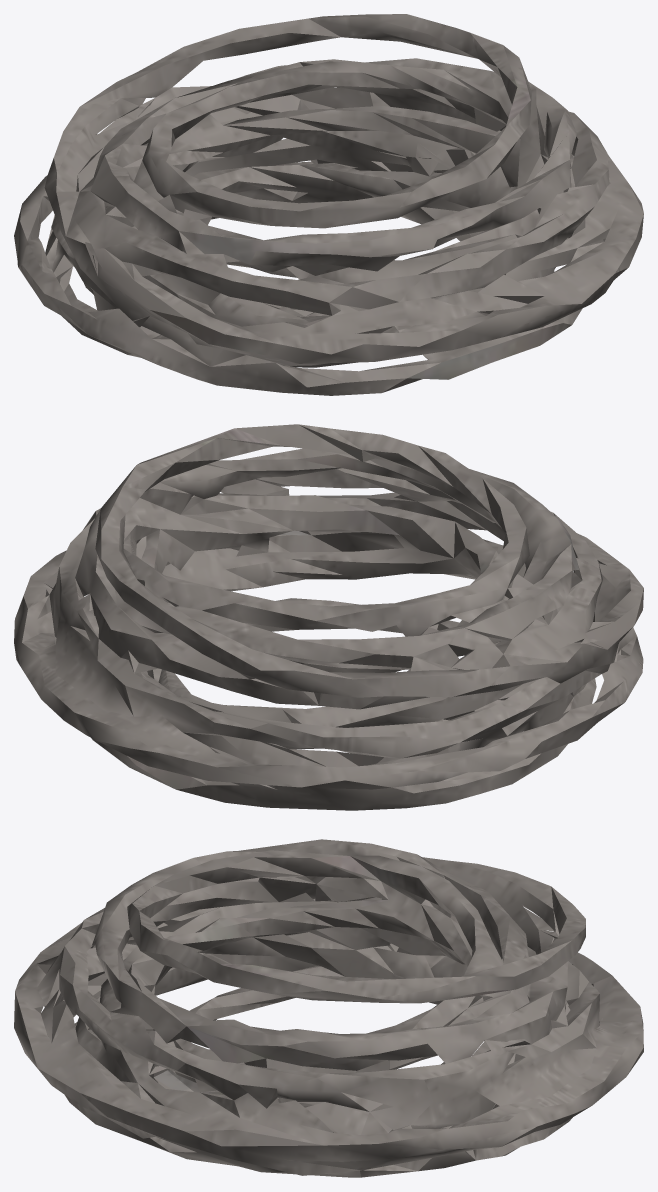
Rendered from rope.glb.
The picture shows the model from 3 angles, top to bottom: view 1: azimuth 30°, elevation 25°; view 2: azimuth 150°, elevation 25°; view 3: azimuth 270°, elevation 25°; orthographic projection.
Visible parts, largest first — view 1: rope; view 2: rope; view 3: rope.
Boxes of the visible parts, left/top/right/bottom form: rope: left=14, top=14, right=643, bottom=395; rope: left=14, top=424, right=643, bottom=810; rope: left=14, top=839, right=643, bottom=1177.
Size of the model in its own units: 0.8165 by 0.2801 by 0.8226.
1 material, 1 textured.
